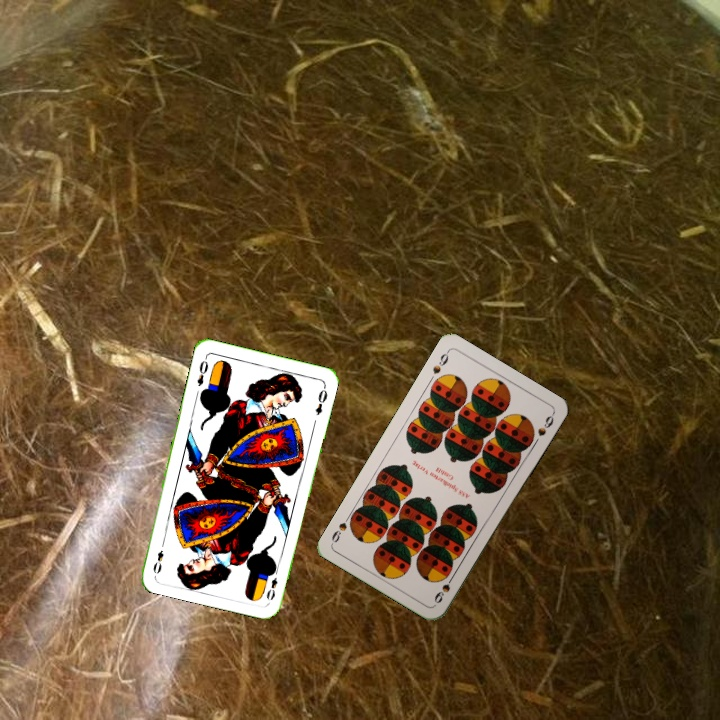EO: (262, 564, 281, 603), (193, 353, 211, 389)
S9: (430, 570, 457, 606), (428, 346, 452, 377)
